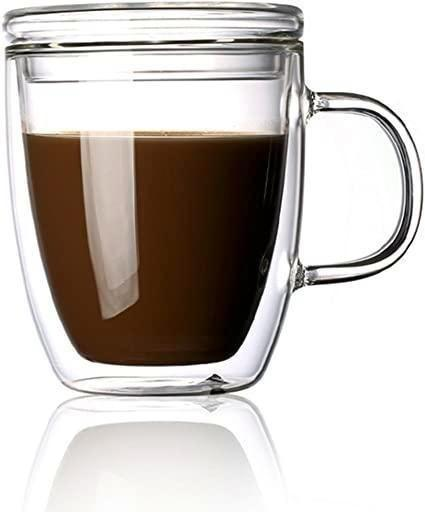glass-mug: (3, 3, 422, 395)
